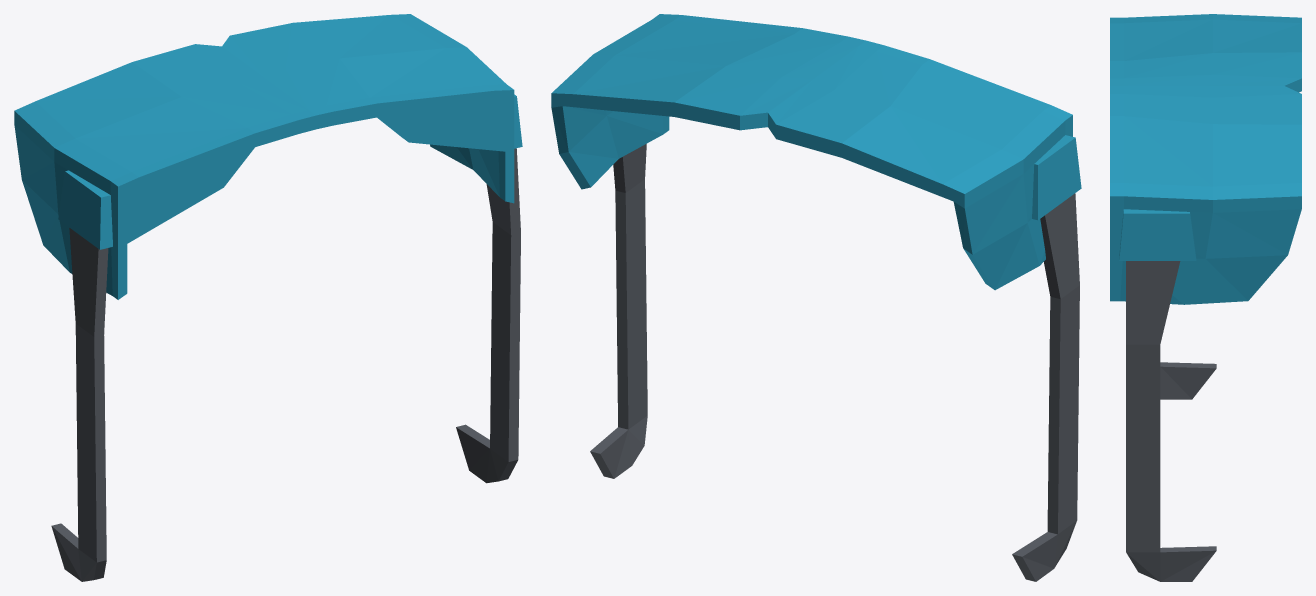
File: ppe_safety_glasses.obj
The picture shows the model from 3 angles, left to right: view 1: azimuth 30°, elevation 25°; view 2: azimuth 150°, elevation 25°; view 3: azimuth 270°, elevation 25°; orthographic projection. The views are drawn at different scales.
Visible parts, largest first — view 1: Cube.439_1, Cube.439; view 2: Cube.439_1, Cube.439; view 3: Cube.439_1, Cube.439.
Part boxes in pixels (x1,y1,x2,y2): Cube.439_1: [14, 14, 522, 299]; Cube.439: [51, 148, 520, 581]; Cube.439_1: [551, 14, 1081, 290]; Cube.439: [590, 144, 1079, 581]; Cube.439_1: [1110, 14, 1301, 304]; Cube.439: [1126, 261, 1216, 581].
Size of the model in its own units: 0.1797 by 0.1753 by 0.0757.
2 materials, 2 textured.
